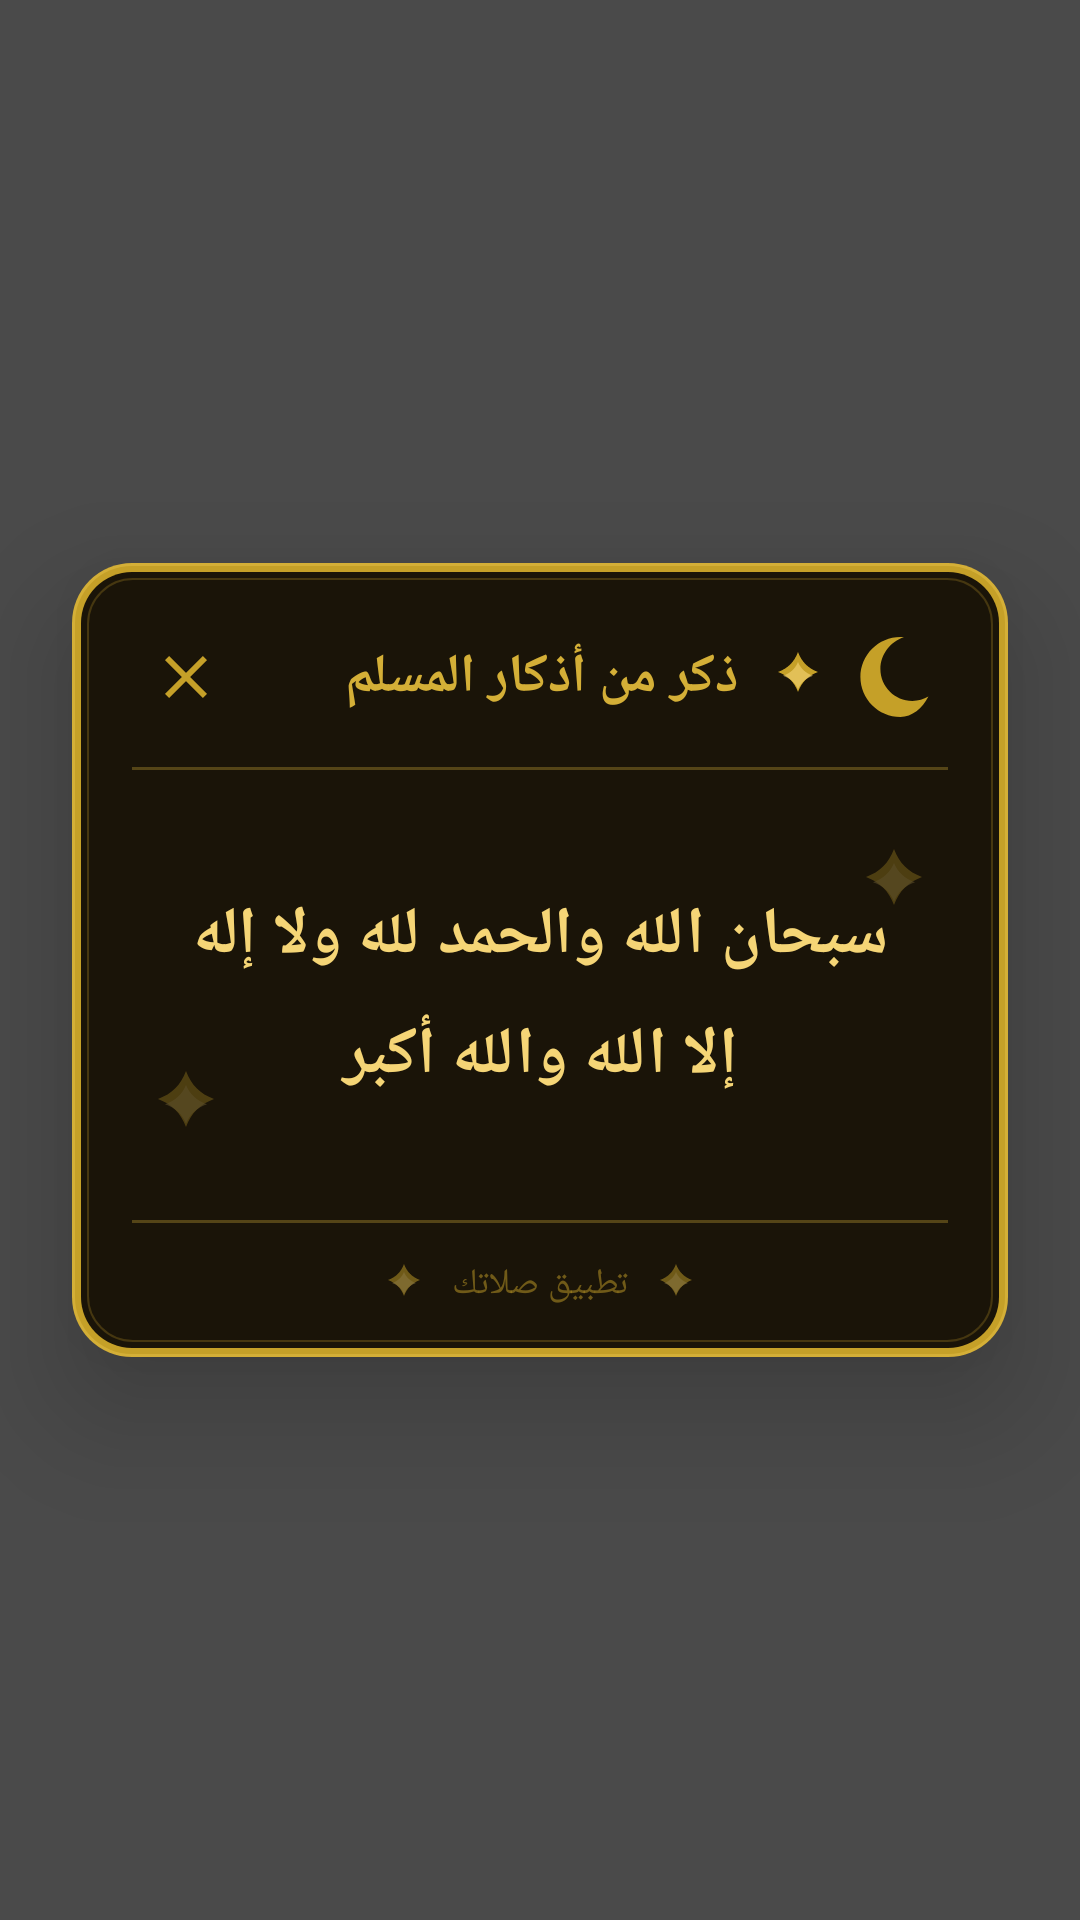

Named icons in this screenshot (1080*1920) and their bounding boxes, (x1=x1, y1=y1, x2=x2, y2=y2):
moon crescent: (x1=860, y1=637, x2=928, y2=717)
إغلاق الذكر: (x1=165, y1=656, x2=207, y2=698)
